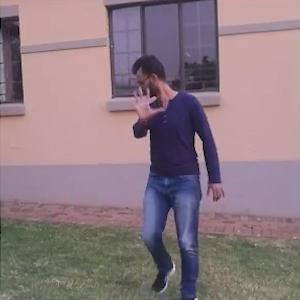follow_hand: (125, 81, 165, 124)
